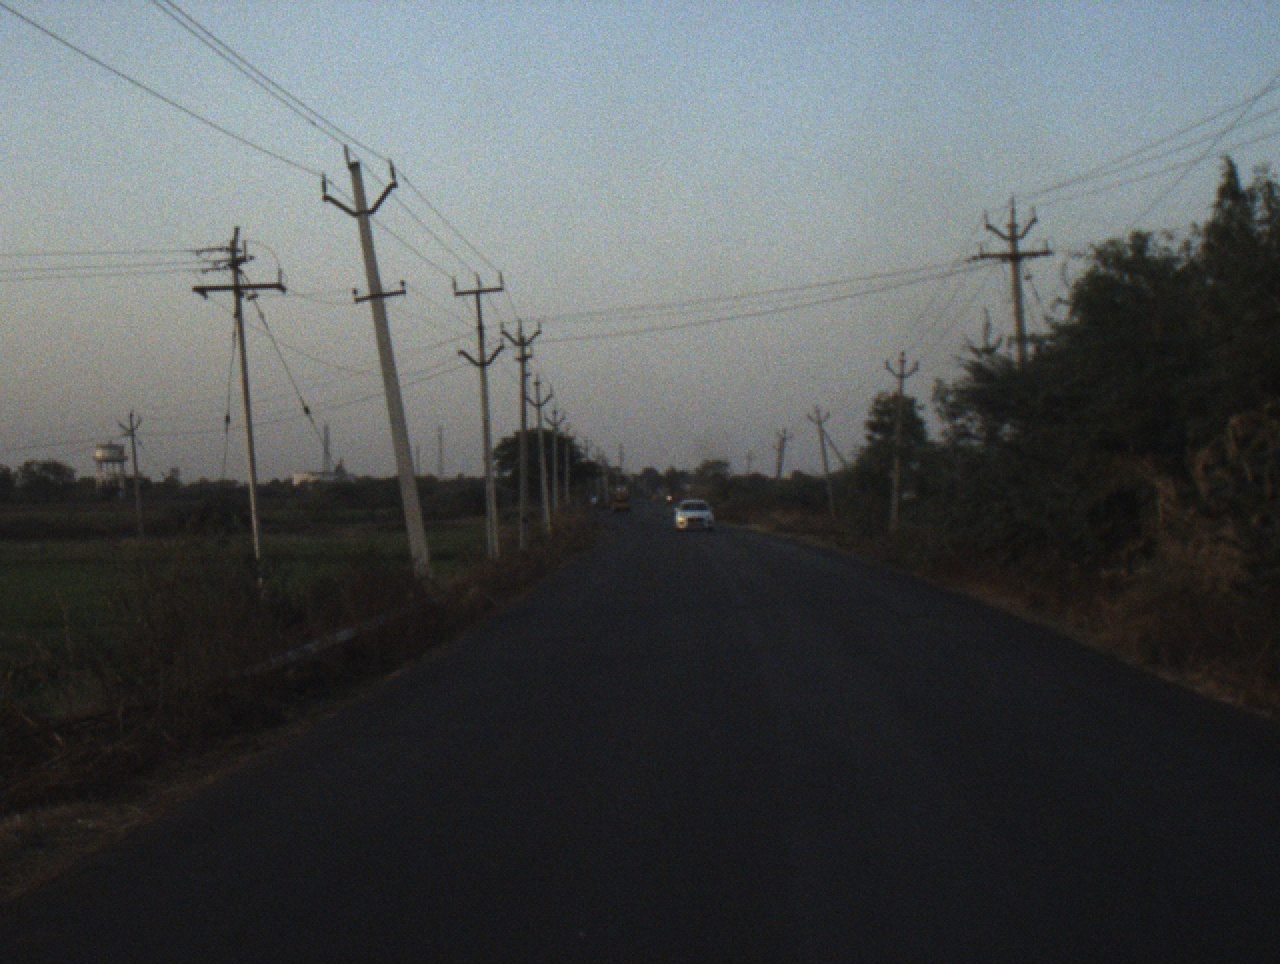autorickshaw: (608, 480, 634, 515)
car: (673, 497, 717, 535)
vehicle fallback: (662, 492, 676, 506)
